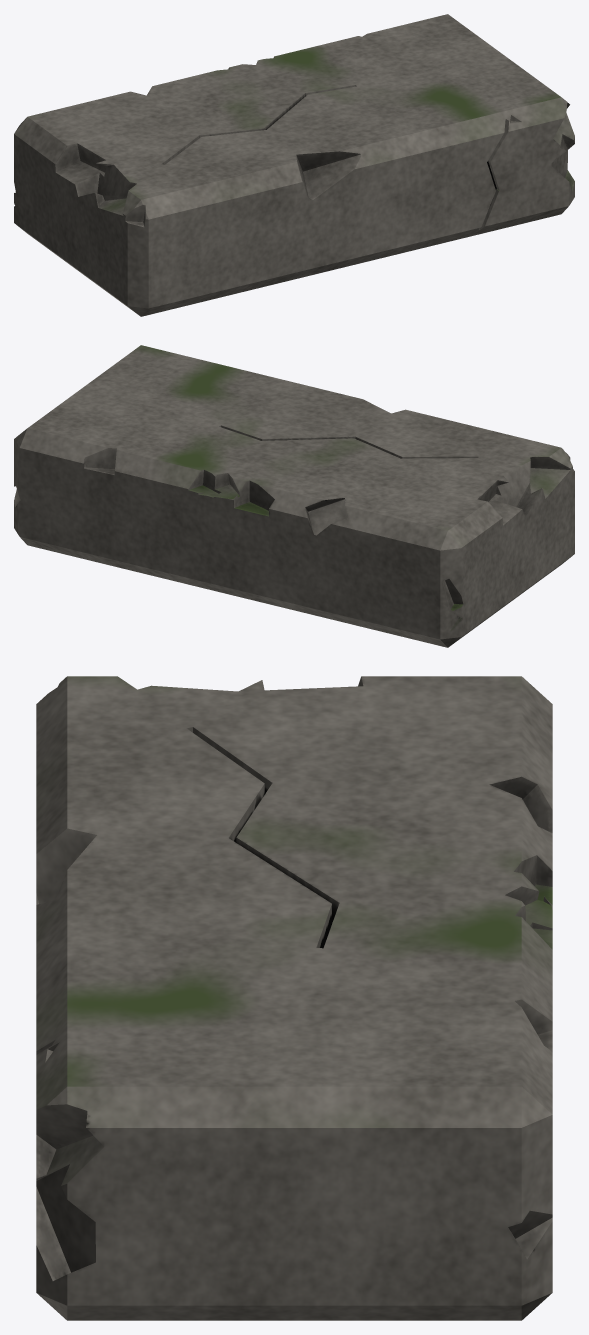
File: ST_01_Cimiento.fbx
3 renders of one model, top to bottom at view 1: azimuth 30°, elevation 25°; view 2: azimuth 150°, elevation 25°; view 3: azimuth 270°, elevation 25°, orthographic. The views are drawn at different scales.
Visible parts, largest first — view 1: ST_01_Cimiento_LOD0; view 2: ST_01_Cimiento_LOD0; view 3: ST_01_Cimiento_LOD0.
Boxes of the visible parts, x1,y1,x2,y2 form: ST_01_Cimiento_LOD0: (14,14,574,316); ST_01_Cimiento_LOD0: (14,345,574,647); ST_01_Cimiento_LOD0: (36,676,552,1320).
Size of what is drawn, in the model's own units: 2 by 0.5 by 1.
1 material, 1 textured.
